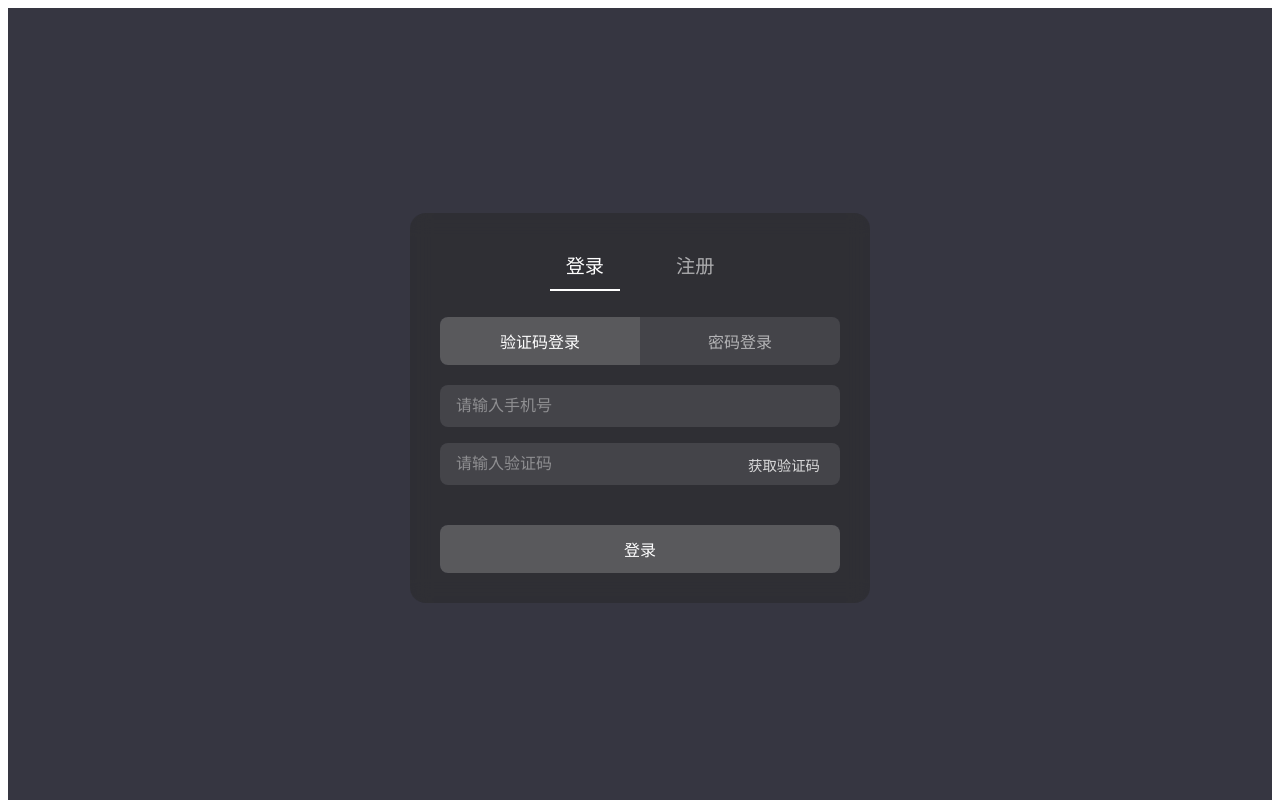
登录页面 › 手机号验证 › 无效手机号提示错误
The image size is (1280, 800).
Type "1234" into the field with test id "phone-input".
click(640, 406); type("1234")  # box [440,385,840,427]
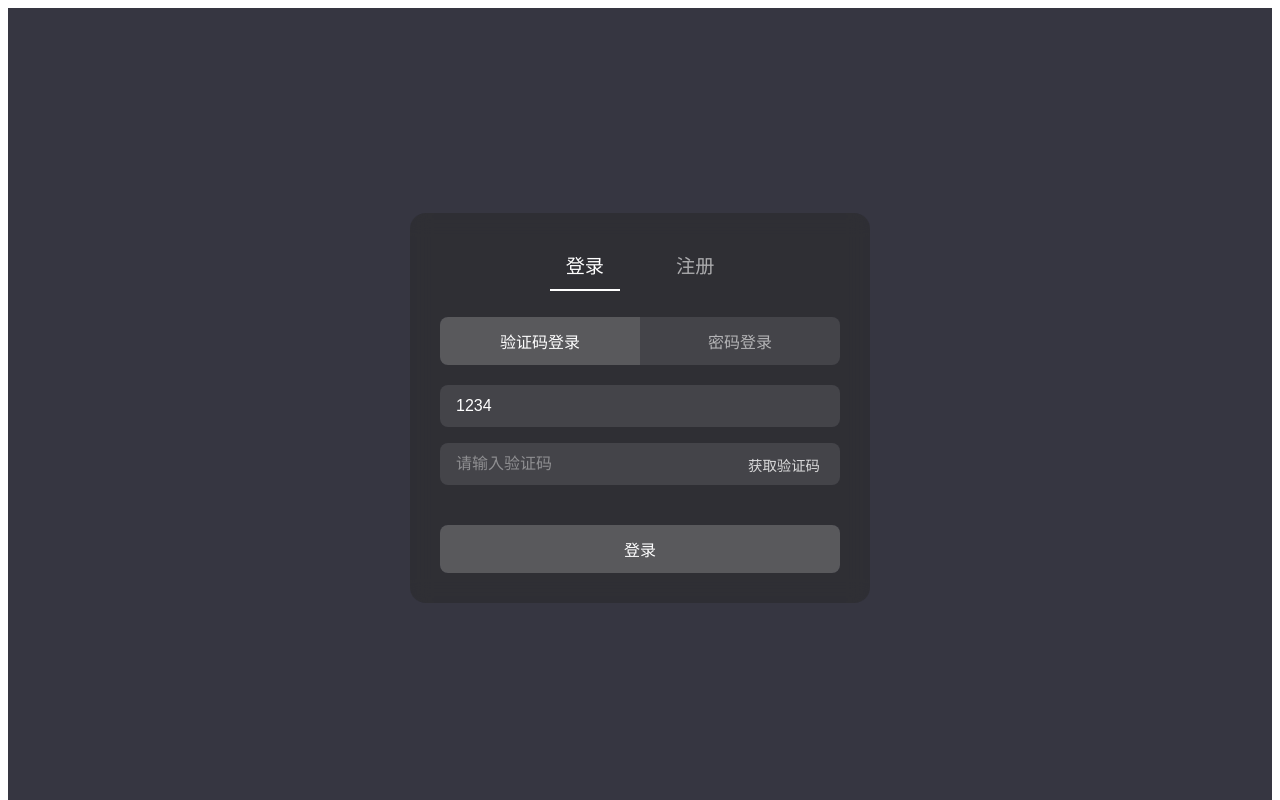
Click the button with test id "request-code-button".
click(784, 464)  # box [736,446,832,482]
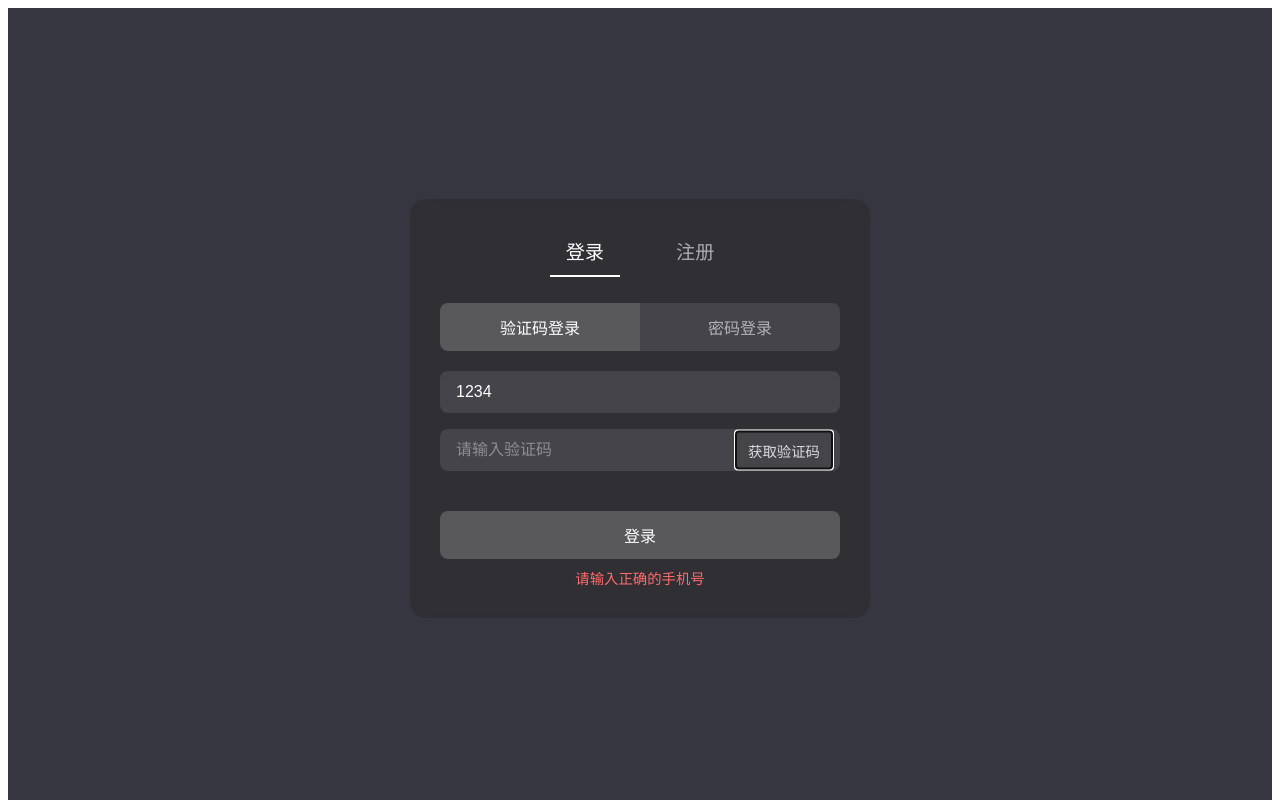
Now the text with test id "message" reads "请输入正确的手机号", box [575,570,705,586]
